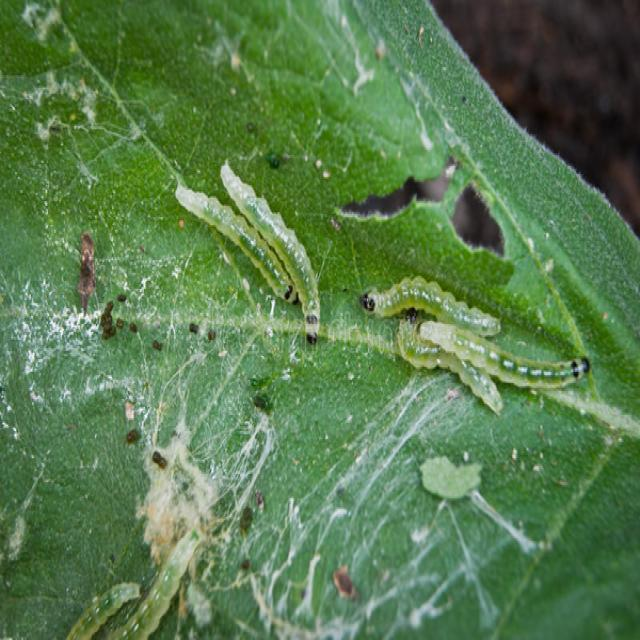caterpillar: (165, 170, 302, 318), (221, 160, 325, 351), (421, 314, 612, 408), (351, 254, 510, 340)
